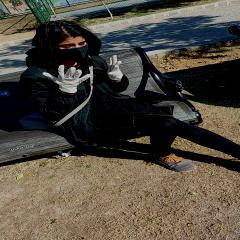gloved: (44, 64, 90, 94), (106, 55, 124, 82)
